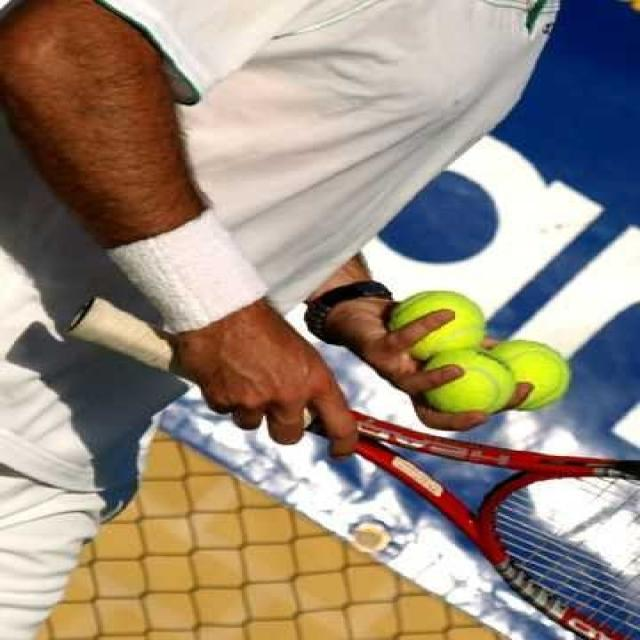Tennis_Ball: (413, 354, 513, 412), (399, 292, 480, 357), (498, 336, 573, 402)
